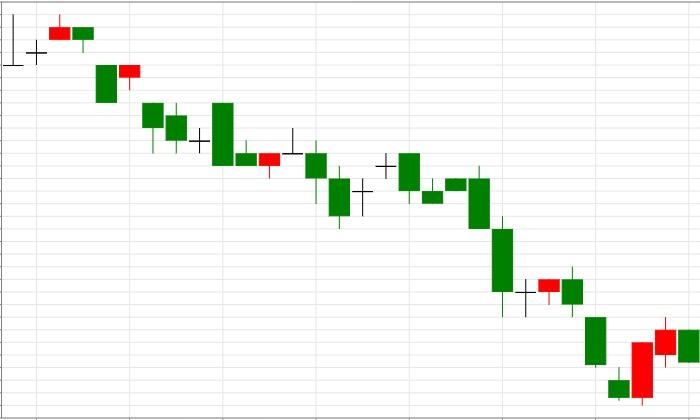bullish_engulfing_rise: (562, 267, 653, 406)
